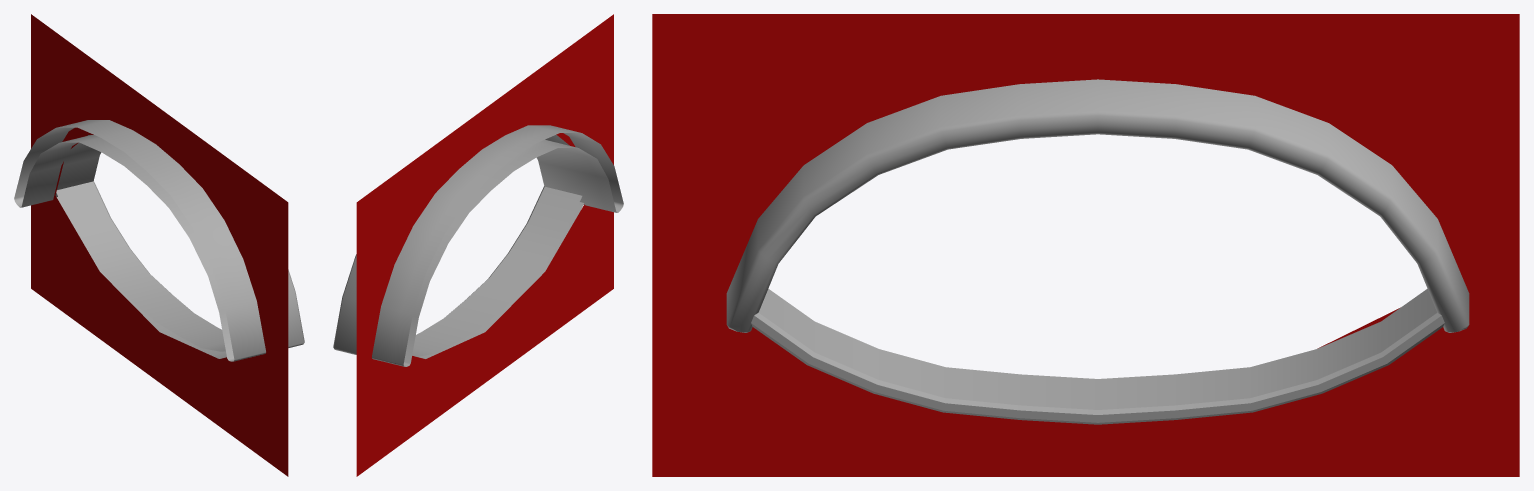
The model's file is SM_BarrelSupport_Top.fbx.
3 views of the same model, side by side, from view 1: azimuth 30°, elevation 25°; view 2: azimuth 150°, elevation 25°; view 3: azimuth 270°, elevation 25° (orthographic). The views are drawn at different scales.
Parts seen in each view (by area): view 1: SM_BarrelSupport; view 2: SM_BarrelSupport; view 3: SM_BarrelSupport.
Part boxes in pixels (bbox=[...]): SM_BarrelSupport: bbox=[14, 14, 304, 476]; SM_BarrelSupport: bbox=[333, 14, 623, 476]; SM_BarrelSupport: bbox=[652, 14, 1519, 476].
Size of the model in its own units: 496 by 1790 by 3039.
